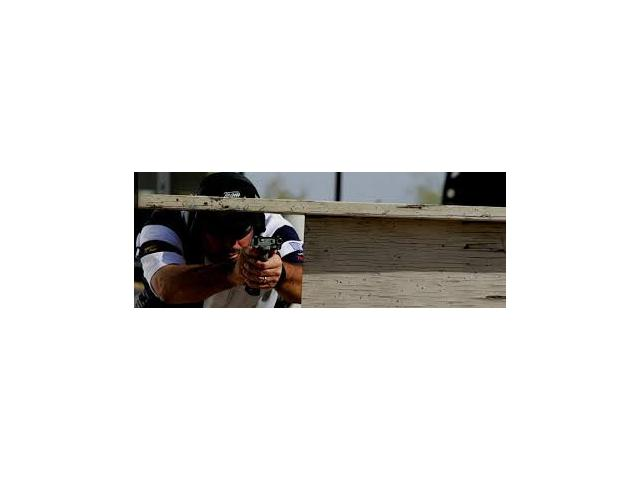pistol: (243, 234, 286, 299)
